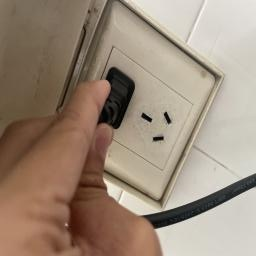outlet: (55, 9, 224, 204)
